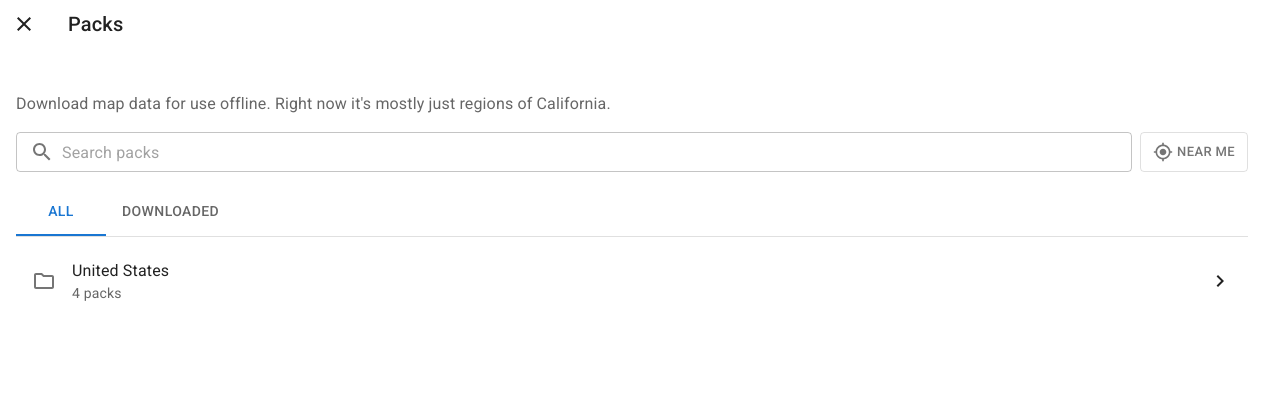
Test: Packs › near me › lists the packs that cover the location flat, the smallest first
expect the text "United States" is shown: met, box [72, 261, 169, 280]
Click the button "Near me": (1194, 152) [1140, 132, 1248, 172]
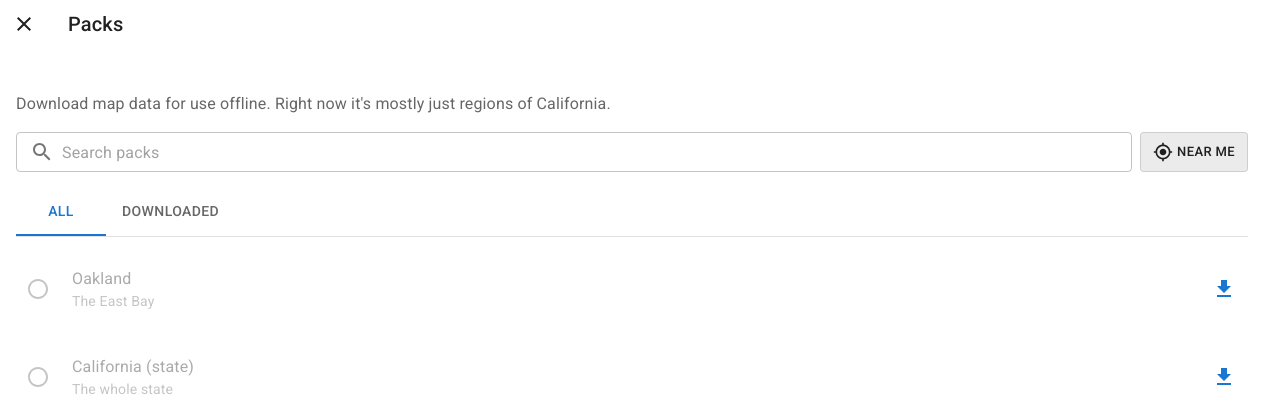
expect the text "Oakland" is shown: met, box [72, 269, 131, 288]
